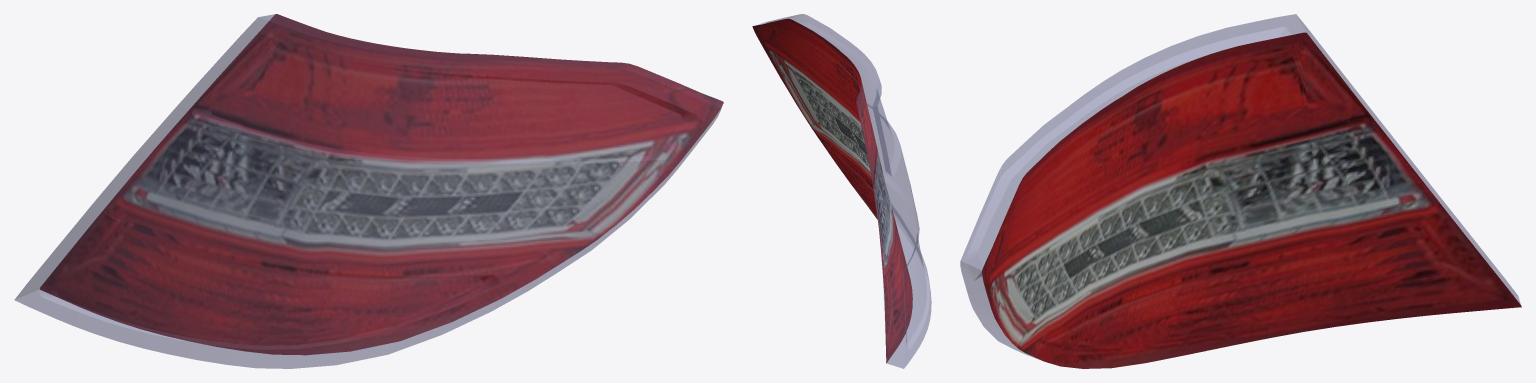
The picture shows the model from 3 angles, left to right: view 1: azimuth 30°, elevation 25°; view 2: azimuth 150°, elevation 25°; view 3: azimuth 270°, elevation 25°; orthographic projection. The views are drawn at different scales.
Parts seen in each view (by area): view 1: X3144_541C_R_X3144_541C_R_1_DTaSI, X3144_541C_R_2_N_X3144_541C_R; view 2: X3144_541C_R_2_N_X3144_541C_R, X3144_541C_R_X3144_541C_R_1_DTaSI; view 3: X3144_541C_R_2_N_X3144_541C_R, X3144_541C_R_X3144_541C_R_1_DTaSI.
Boxes of the visible parts, x1,y1,x2,y2 form: X3144_541C_R_X3144_541C_R_1_DTaSI: (14,14,723,368); X3144_541C_R_2_N_X3144_541C_R: (40,14,723,355); X3144_541C_R_2_N_X3144_541C_R: (752,18,912,362); X3144_541C_R_X3144_541C_R_1_DTaSI: (757,14,931,368); X3144_541C_R_2_N_X3144_541C_R: (982,32,1521,368); X3144_541C_R_X3144_541C_R_1_DTaSI: (960,14,1520,359).
Size of the model in its own units: 43.8 by 28.08 by 39.26.
